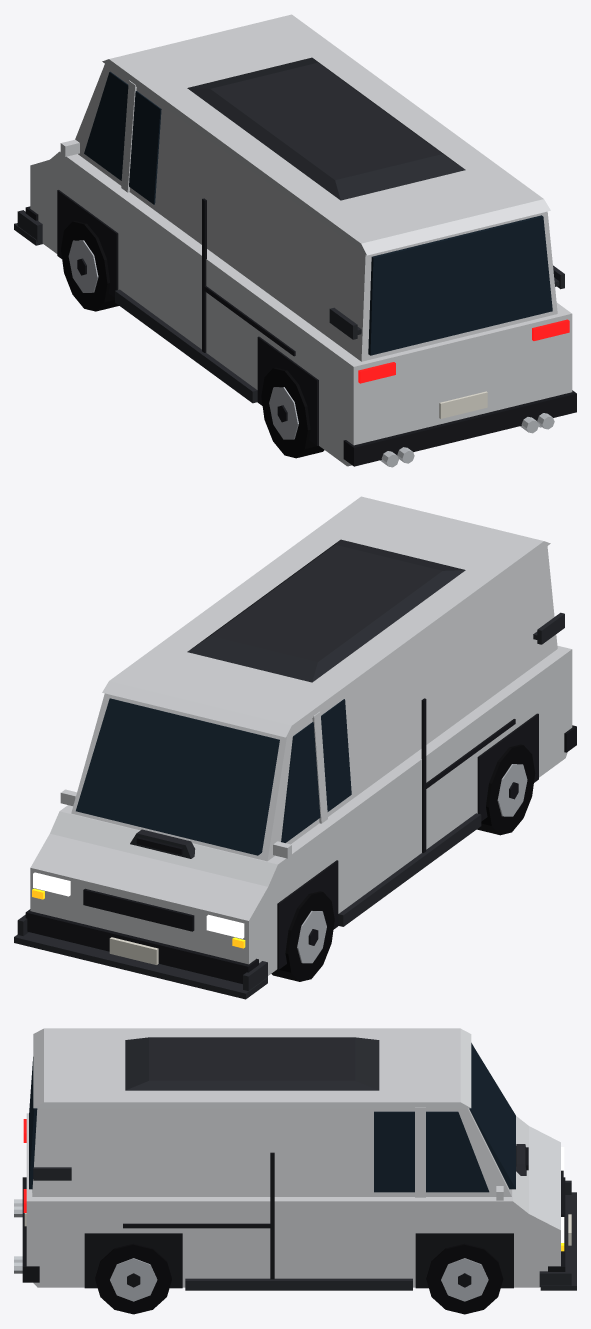
Rendered from car_van.glb.
3 renders of one model, top to bottom at view 1: azimuth 30°, elevation 25°; view 2: azimuth 150°, elevation 25°; view 3: azimuth 270°, elevation 25°, orthographic. The views are drawn at different scales.
Visible parts, largest first — view 1: car_van__body, car_van__mod_roof, car_van__wheel_rl, car_van__wheel_fl, car_van__mod_skirts, car_van__mod_exhaust, car_van__mod_spoiler, car_van__mod_bumper; view 2: car_van__body, car_van__mod_roof, car_van__mod_bumper, car_van__wheel_fl, car_van__wheel_rl, car_van__mod_skirts, car_van__mod_hood; view 3: car_van__body, car_van__mod_roof, car_van__wheel_fr, car_van__wheel_rr, car_van__mod_skirts, car_van__mod_bumper, car_van__mod_spoiler, car_van__mod_hood.
Boxes of the visible parts, left/top/right/bottom form: car_van__body: left=25, top=14, right=576, bottom=466; car_van__mod_roof: left=187, top=57, right=465, bottom=200; car_van__wheel_rl: left=261, top=367, right=324, bottom=458; car_van__wheel_fl: left=61, top=221, right=118, bottom=311; car_van__mod_skirts: left=115, top=289, right=257, bottom=403; car_van__mod_exhaust: left=380, top=413, right=554, bottom=467; car_van__mod_spoiler: left=329, top=265, right=564, bottom=339; car_van__mod_bumper: left=14, top=210, right=42, bottom=245; car_van__body: left=25, top=496, right=576, bottom=983; car_van__mod_roof: left=187, top=539, right=465, bottom=682; car_van__mod_bumper: left=14, top=914, right=267, bottom=999; car_van__wheel_fl: left=271, top=891, right=334, bottom=981; car_van__wheel_rl: left=477, top=744, right=535, bottom=835; car_van__mod_skirts: left=338, top=813, right=481, bottom=926; car_van__mod_hood: left=130, top=829, right=195, bottom=858; car_van__body: left=22, top=1028, right=571, bottom=1288; car_van__mod_roof: left=125, top=1037, right=379, bottom=1090; car_van__wheel_fr: left=426, top=1243, right=503, bottom=1314; car_van__wheel_rr: left=95, top=1243, right=171, bottom=1314; car_van__mod_skirts: left=185, top=1278, right=412, bottom=1290; car_van__mod_bumper: left=539, top=1180, right=576, bottom=1290; car_van__mod_spoiler: left=33, top=1167, right=71, bottom=1180; car_van__mod_hood: left=516, top=1144, right=528, bottom=1175.
Size of the model in its own units: 2.08 by 2.17 by 5.27.
